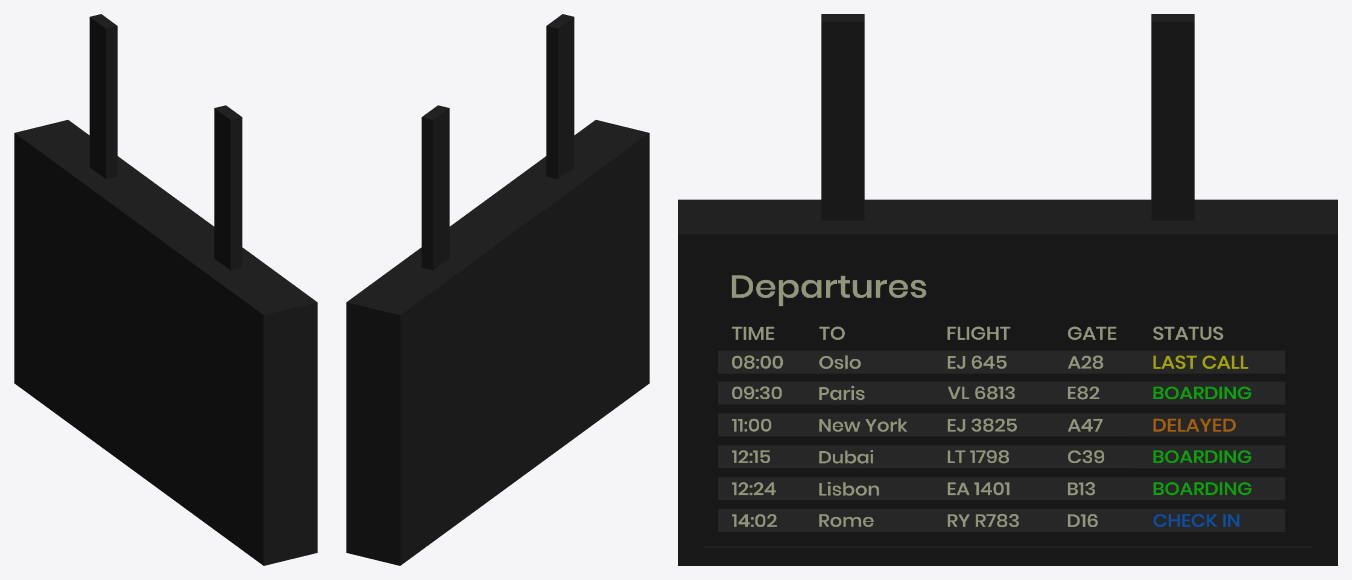
The model's file is flights_screen_boarding.fbx.
3 views of the same model, side by side, from view 1: azimuth 30°, elevation 25°; view 2: azimuth 150°, elevation 25°; view 3: azimuth 270°, elevation 25° (orthographic). The views are drawn at different scales.
Visible parts, largest first — view 1: Cube.002; view 2: Cube.002; view 3: 2Prancheta 8_5, Cube.002.
Boxes of the visible parts, bbox=[...] form: Cube.002: bbox=[14, 14, 317, 565]; Cube.002: bbox=[346, 14, 649, 565]; 2Prancheta 8_5: bbox=[705, 252, 1310, 545]; Cube.002: bbox=[678, 14, 1337, 565].
Size of the model in its own units: 23.43 by 167 by 188.
Materials: 2 (1 with a texture image).
